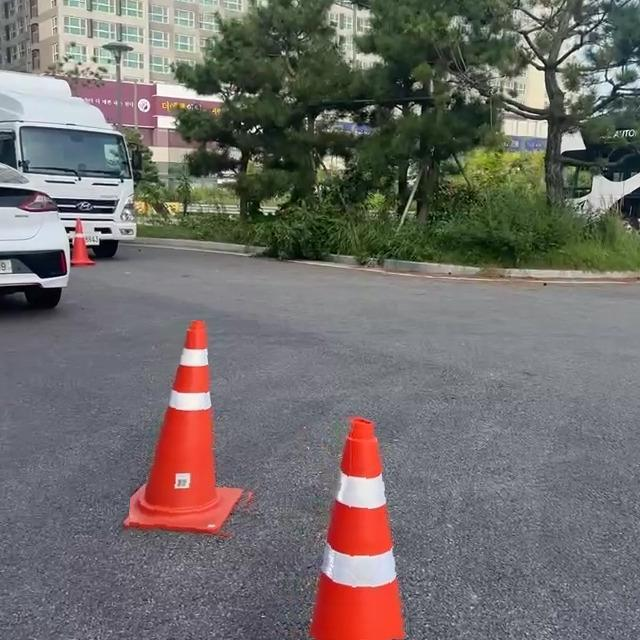fallen_object: (271, 394, 480, 640), (122, 242, 235, 547), (33, 176, 122, 313)
